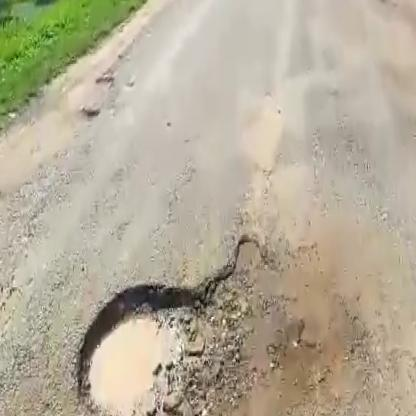pothole: (69, 229, 348, 416)
